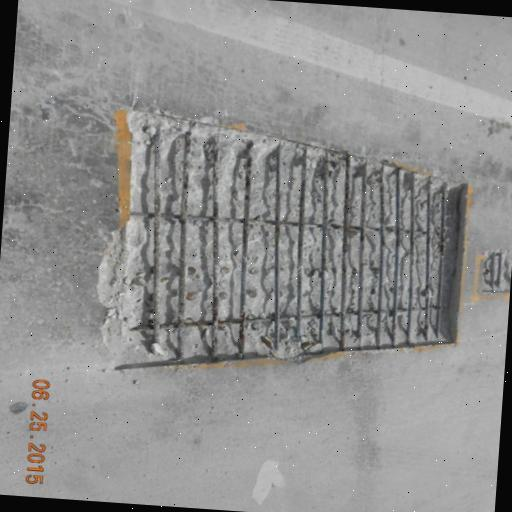spalling: (87, 86, 480, 388), (475, 244, 512, 305)
